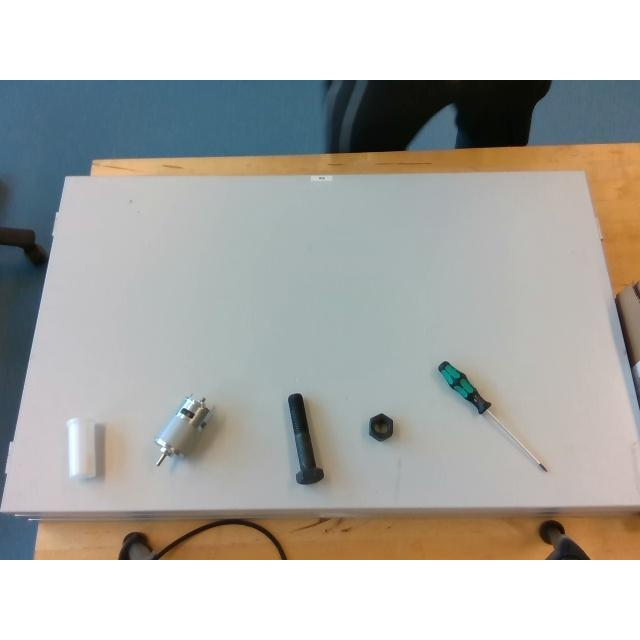M20: (369, 413, 393, 441)
M20_100: (288, 392, 324, 483)
Motor2: (154, 394, 210, 466)
Screwdriver: (438, 361, 548, 471)
Spacer: (66, 418, 98, 480)
